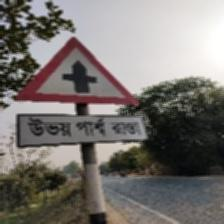Crossroad: (13, 35, 145, 148)
